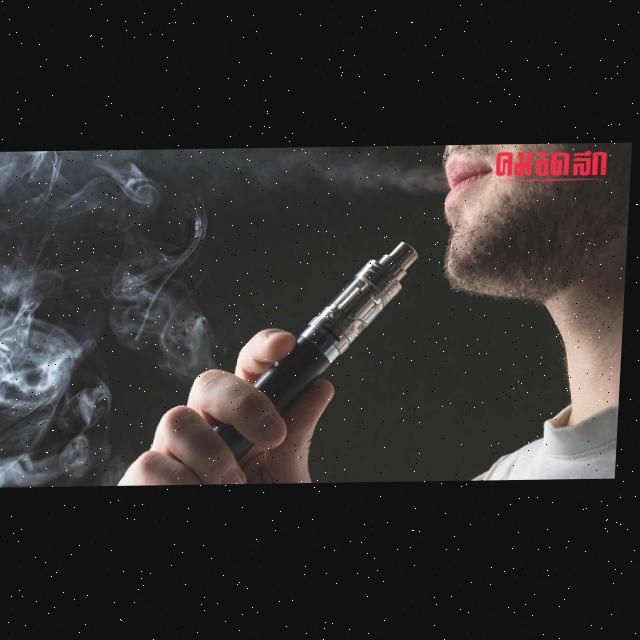vape: (213, 231, 433, 459)
